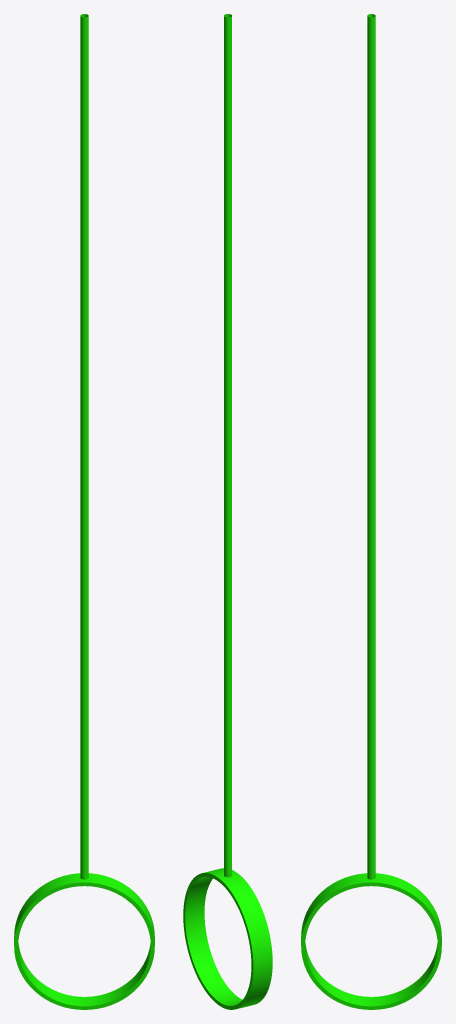
File: cutter3_circle.fbx
3 views of the same model, side by side, from view 1: azimuth 90°, elevation 25°; view 2: azimuth 210°, elevation 25°; view 3: azimuth 270°, elevation 25° (orthographic).
Visible parts, largest first — view 1: Cutter3_Circle; view 2: Cutter3_Circle; view 3: Cutter3_Circle.
Part boxes in pixels (left/top/right/bottom): Cutter3_Circle: left=14, top=14, right=154, bottom=1009; Cutter3_Circle: left=183, top=14, right=272, bottom=1009; Cutter3_Circle: left=301, top=14, right=441, bottom=1009.
Size of the model in its own units: 16.84 by 823 by 106.
